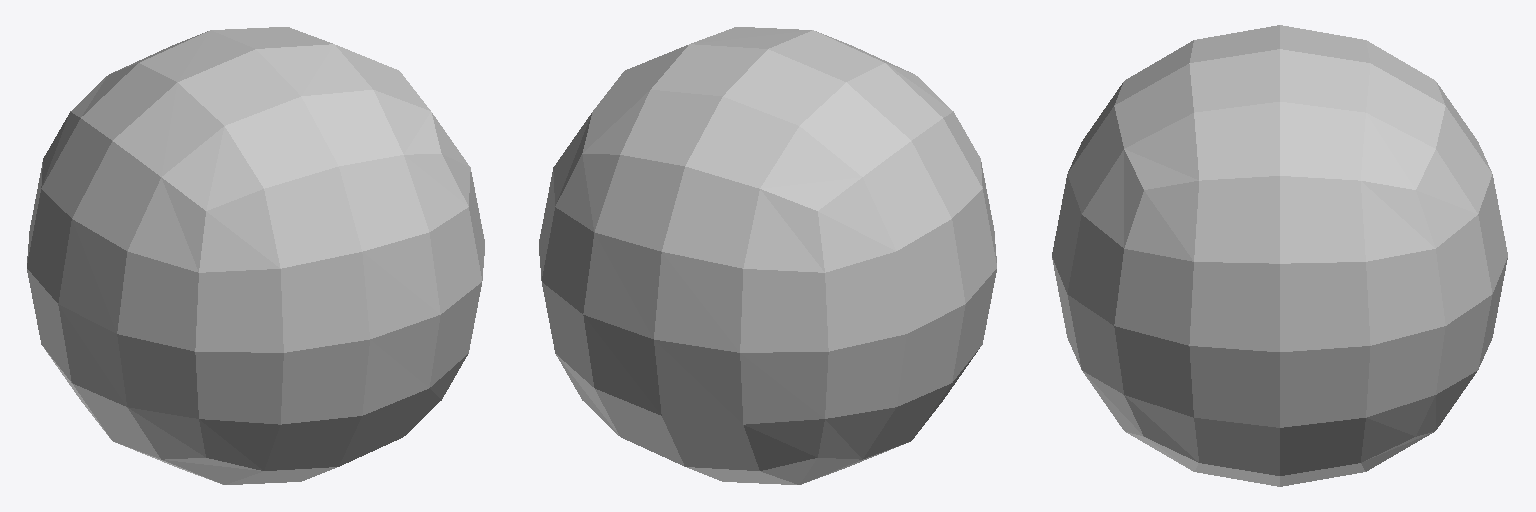
Rendered from fireball.obj.
3 views of the same model, side by side, from view 1: azimuth 30°, elevation 25°; view 2: azimuth 150°, elevation 25°; view 3: azimuth 270°, elevation 25° (orthographic).
Visible parts, largest first — view 1: Cube; view 2: Cube; view 3: Cube.
Boxes of the visible parts, x1=… form: Cube: x1=27, y1=27, x2=484, y2=484; Cube: x1=539, y1=27, x2=996, y2=484; Cube: x1=1052, y1=25, x2=1507, y2=486.
Bounding box in the file's own units: 2.5 × 2.5 × 2.5.